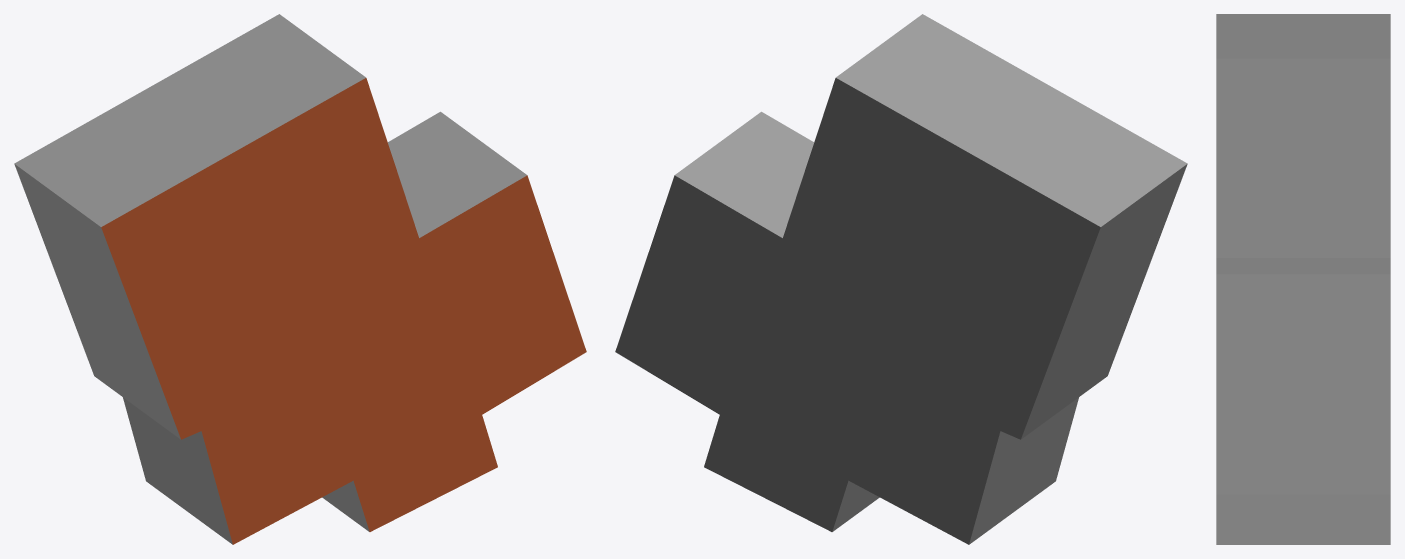
The model's file is construction_2427_assumed_A_Casa_h6m.obj.
3 renders of one model, left to right at view 1: azimuth 30°, elevation 25°; view 2: azimuth 150°, elevation 25°; view 3: azimuth 270°, elevation 25°, orthographic.
Parts seen in each view (by area): view 1: construction_2427_assumed_A_Casa; view 2: construction_2427_assumed_A_Casa; view 3: construction_2427_assumed_A_Casa.
Part boxes in pixels (left/top/right/bottom): construction_2427_assumed_A_Casa: left=14, top=14, right=586, bottom=544; construction_2427_assumed_A_Casa: left=615, top=14, right=1187, bottom=544; construction_2427_assumed_A_Casa: left=1216, top=14, right=1390, bottom=544.
Bounding box in the file's own units: 19.35 × 17.34 × 6.
